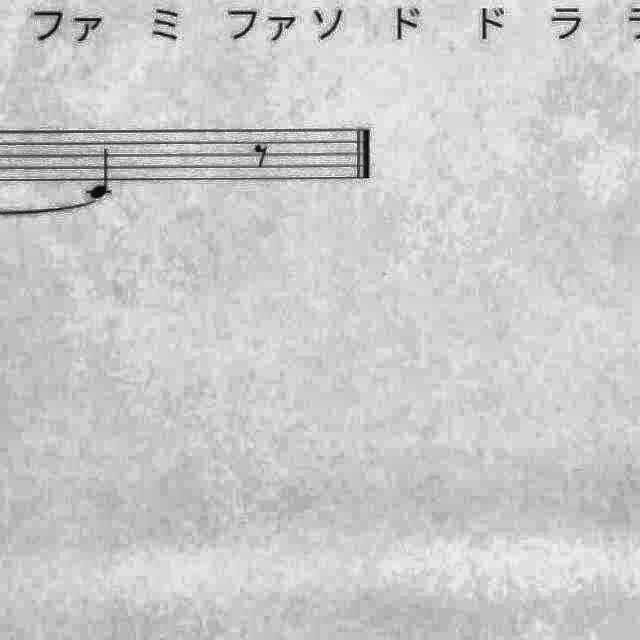Eighth-rest: (248, 137, 274, 173)
Quarter-note: (84, 144, 120, 200)
